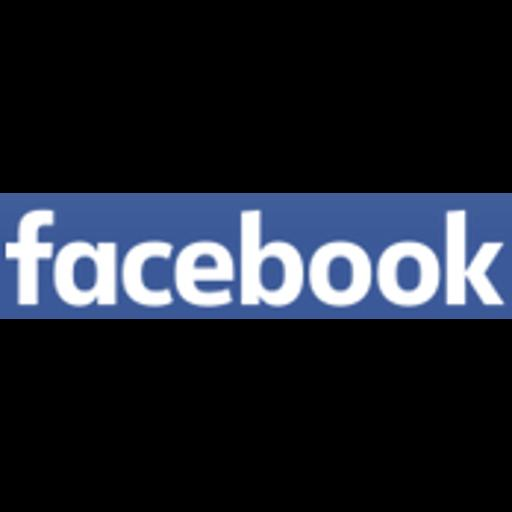Facebook: (0, 193, 512, 319)
